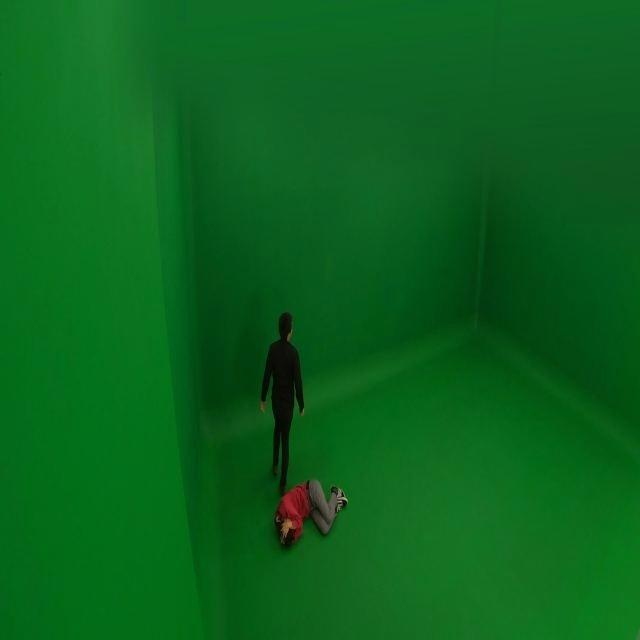fight: (260, 310, 353, 547)
